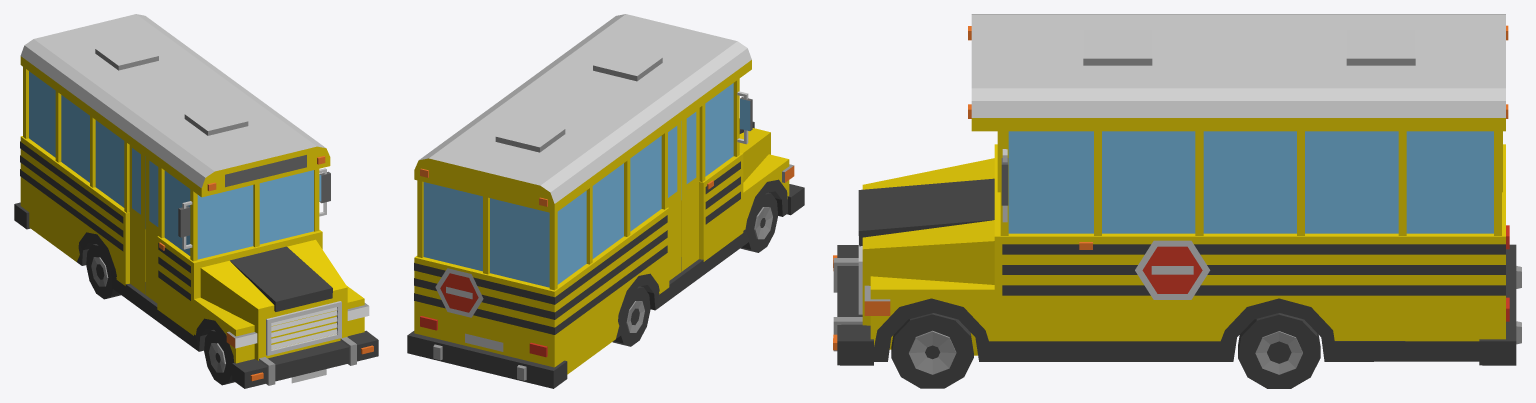
File: Bus.fbx
3 views of the same model, side by side, from view 1: azimuth 30°, elevation 25°; view 2: azimuth 150°, elevation 25°; view 3: azimuth 270°, elevation 25° (orthographic). The views are drawn at different scales.
Parts seen in each view (by area): view 1: Bus; view 2: Bus; view 3: Bus.
Part boxes in pixels (x1=…): Bus: x1=14, y1=14, x2=378, y2=388; Bus: x1=407, y1=14, x2=804, y2=388; Bus: x1=833, y1=14, x2=1521, y2=388.
Bounding box in the file's own units: 1.01 × 1.31 × 2.72.
